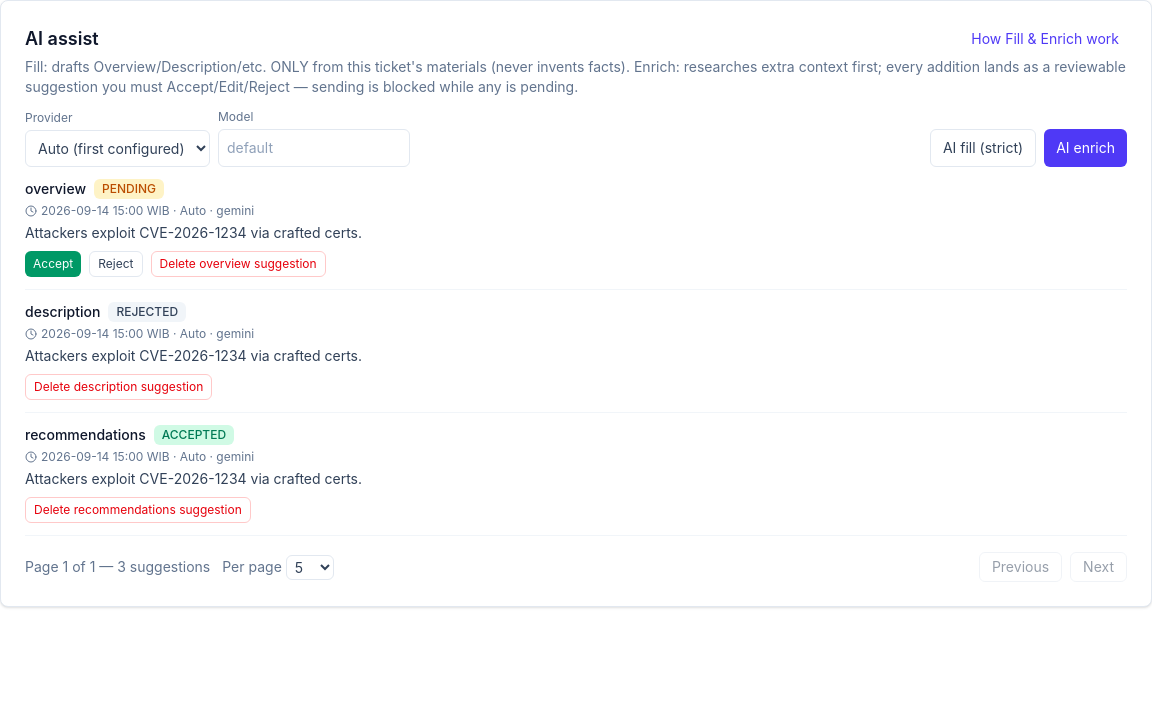
TASK-UIFE: suggestion delete via confirm dialog › opens the app confirm dialog instead of window.confirm
The width and height of the screenshot is (1152, 720).
Note: Delete is clicked on the pending row
Click the button "Delete overview suggestion".
click(238, 264)  # box [150,251,326,277]
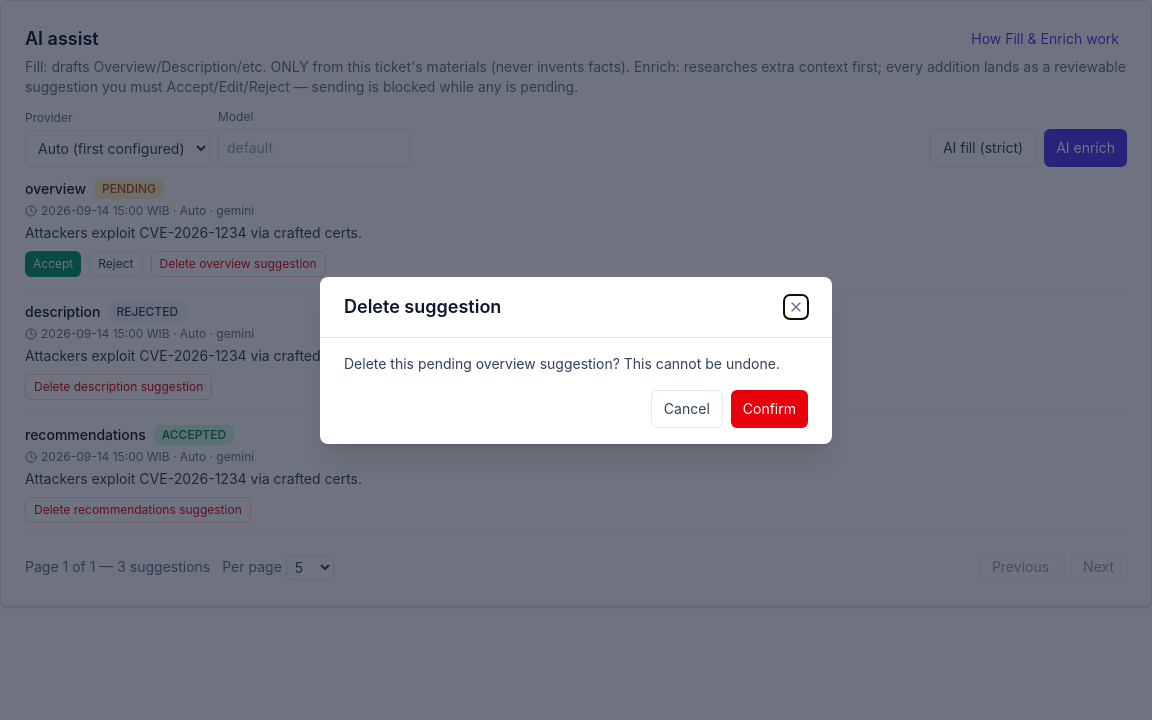
Now the dialog "Delete suggestion" shows "overview", box [344,354,780,372]
Now the button "Confirm" is shown, box [731,390,808,428]
Now the button "Cancel" is shown, box [651,390,723,428]
